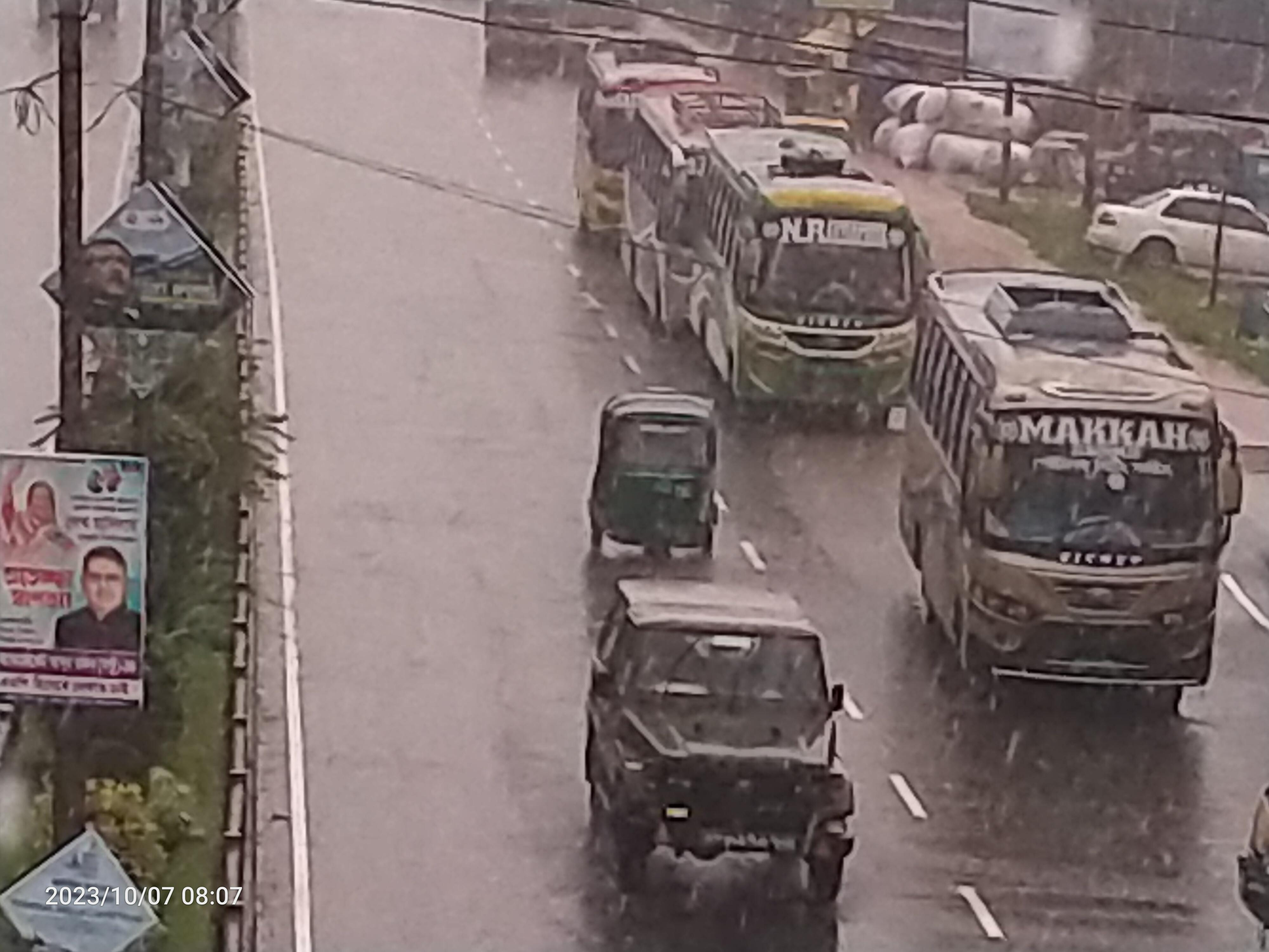Bus: (885, 257, 1246, 734), (684, 115, 922, 441), (562, 25, 713, 248)
Car: (568, 550, 896, 949), (1077, 160, 1269, 290)
